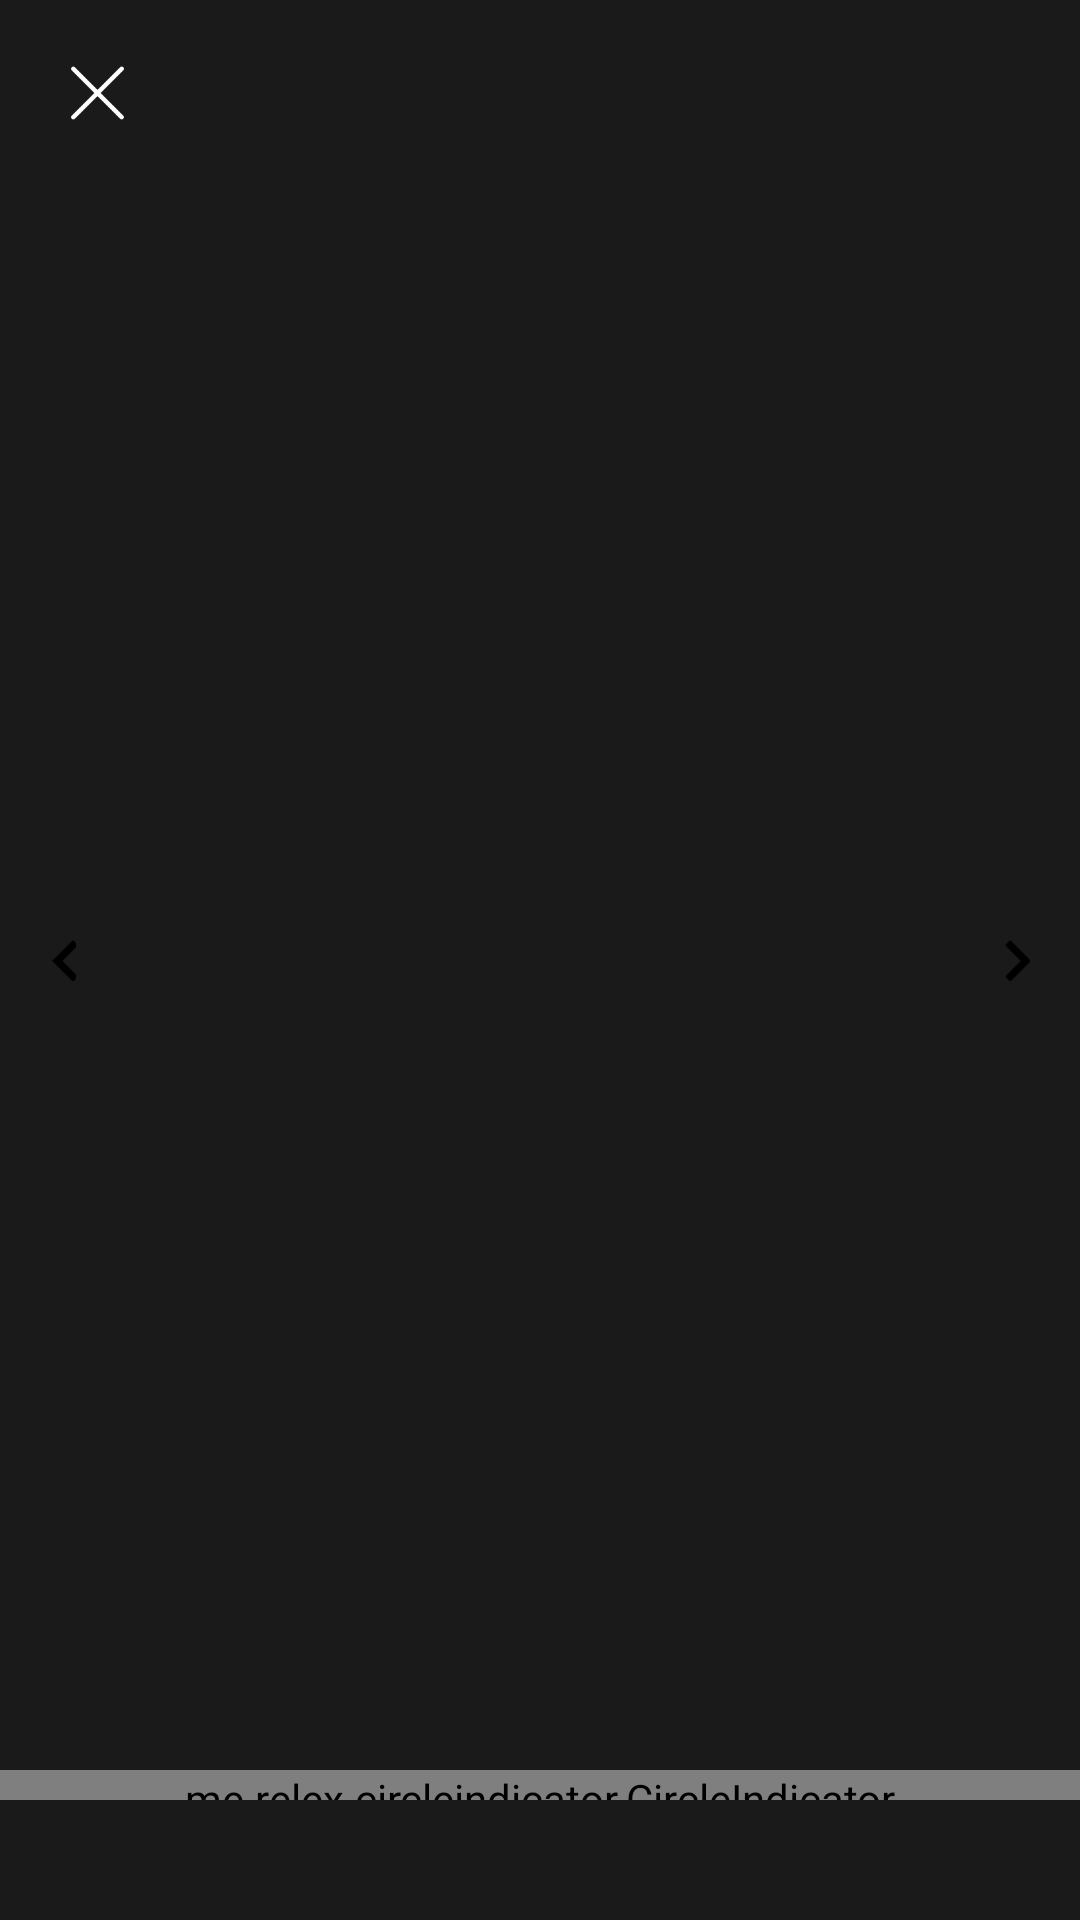

Locate icon controls on the screen. Image size 1080×1920, boxes as rect(x1, y1, x2, y2).
arrow forward: rect(1006, 941, 1030, 981)
arrow previous: rect(53, 941, 76, 981)
cancel: rect(71, 66, 124, 120)
